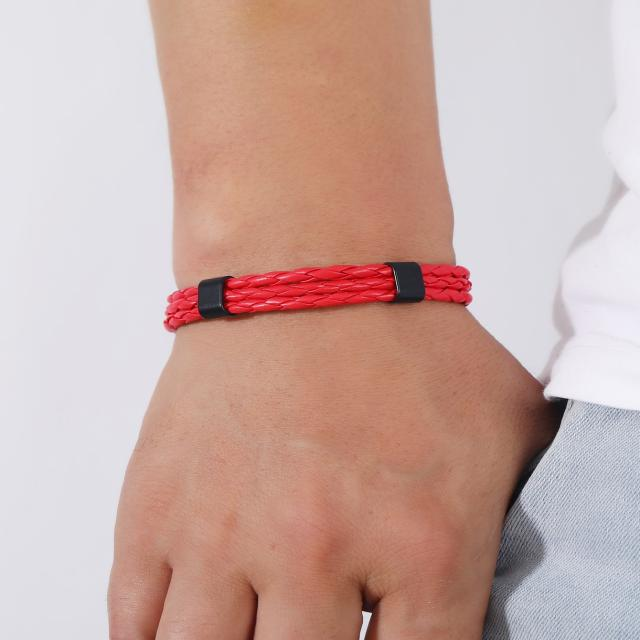bracelet: (105, 200, 516, 374)
